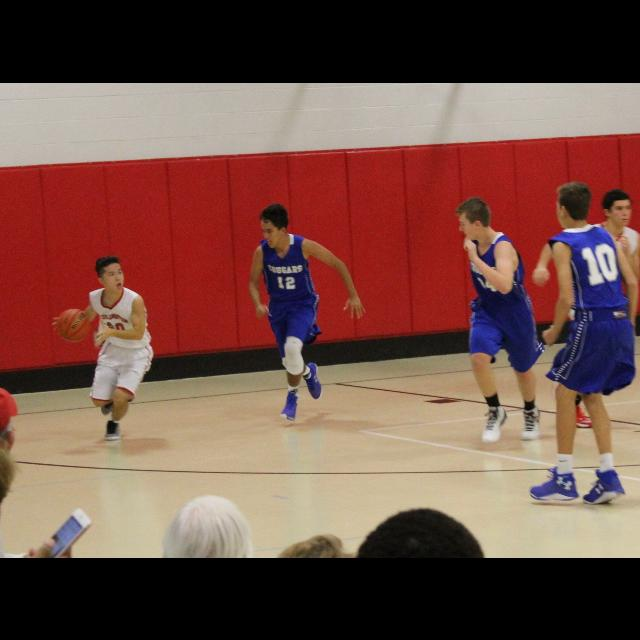head: (557, 182, 591, 228), (458, 198, 490, 240), (602, 188, 634, 226), (260, 206, 288, 248), (95, 255, 125, 291)
person: (248, 202, 368, 426), (454, 196, 548, 444), (49, 254, 158, 442)
